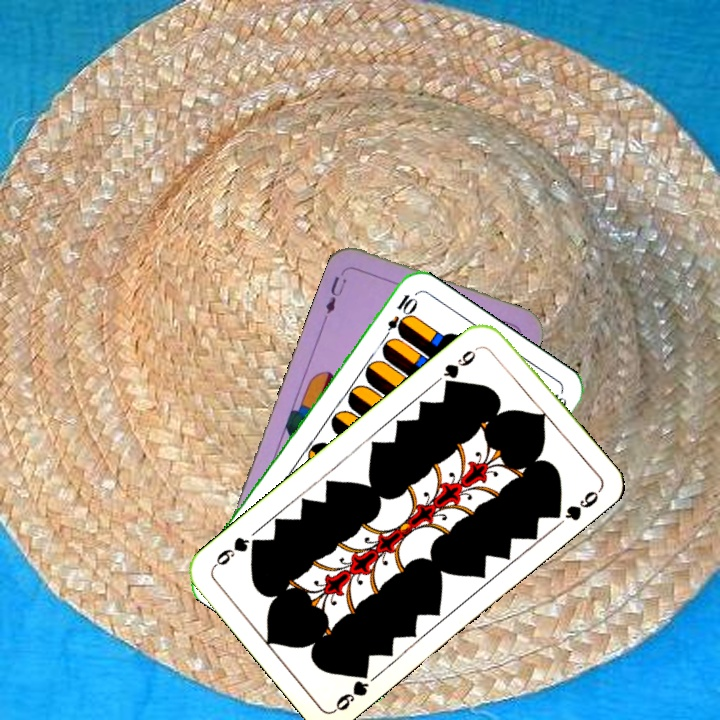E10: (378, 290, 419, 345)
EU: (321, 272, 350, 316)
G9: (330, 663, 372, 714), (439, 346, 479, 391)
